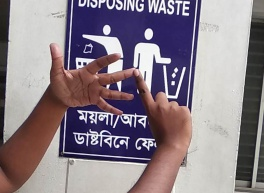u: (47, 43, 156, 123)
